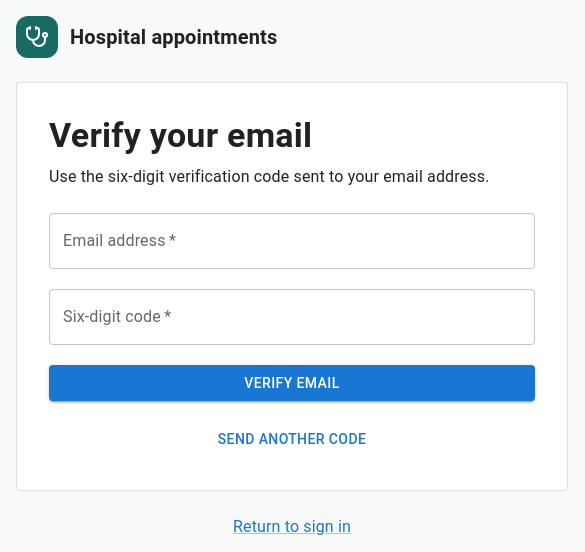
Scenario: identity routes › submits the email with verification and recovery codes
Type "patient@example.test" into the field labelled "Email address *" at {"x": 292, "y": 241}, box [49,213,535,269]
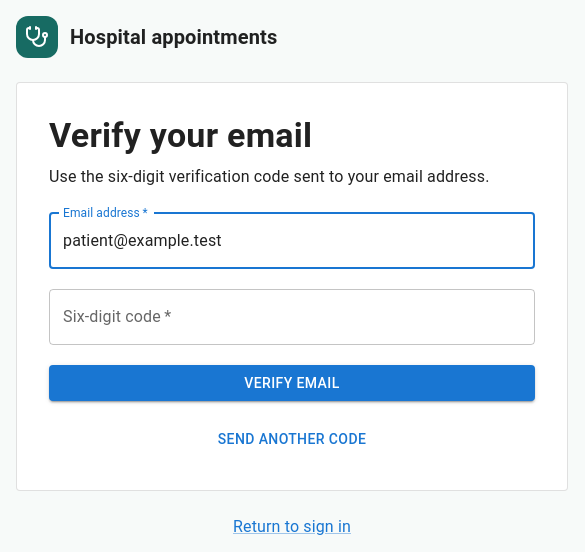
Type "123456" into the field labelled "Six-digit code *" at {"x": 292, "y": 317}, box [49,289,535,345]
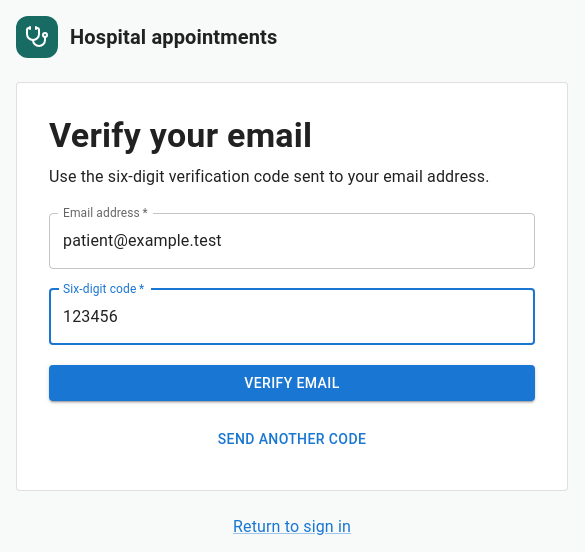
Click the button "Verify email" at {"x": 292, "y": 383}, box [49,365,535,402]
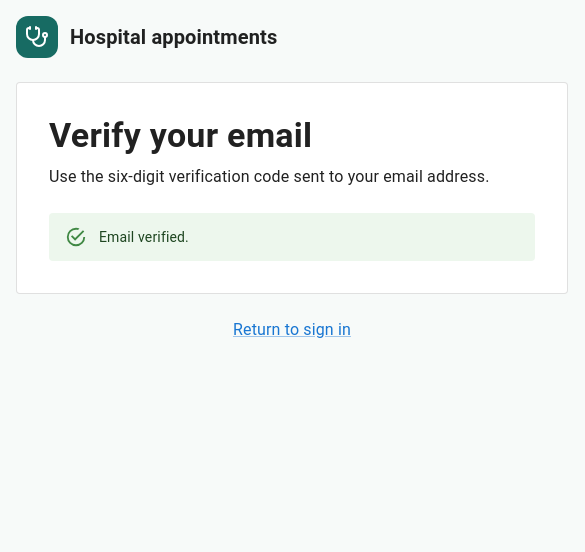
Result: the text "Email verified." is shown at [99,229,189,245]
